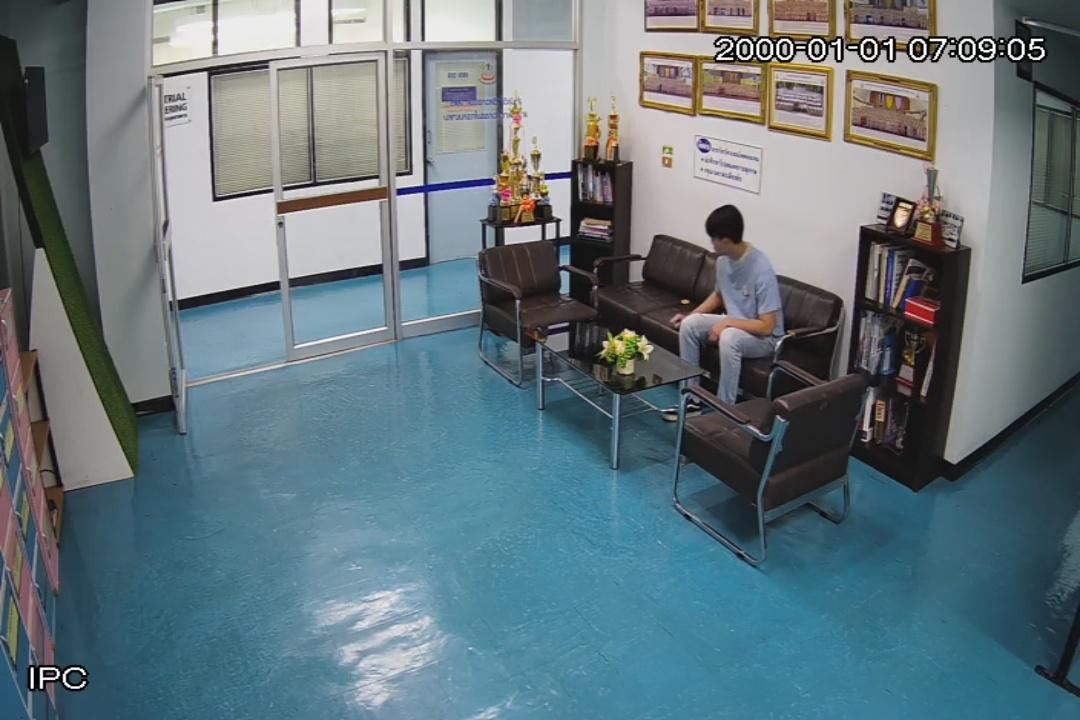normal: (659, 198, 786, 432)
